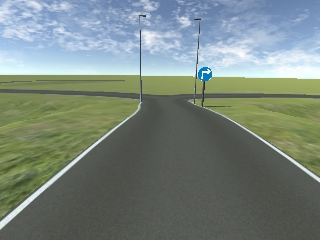right: (196, 66, 212, 82)
